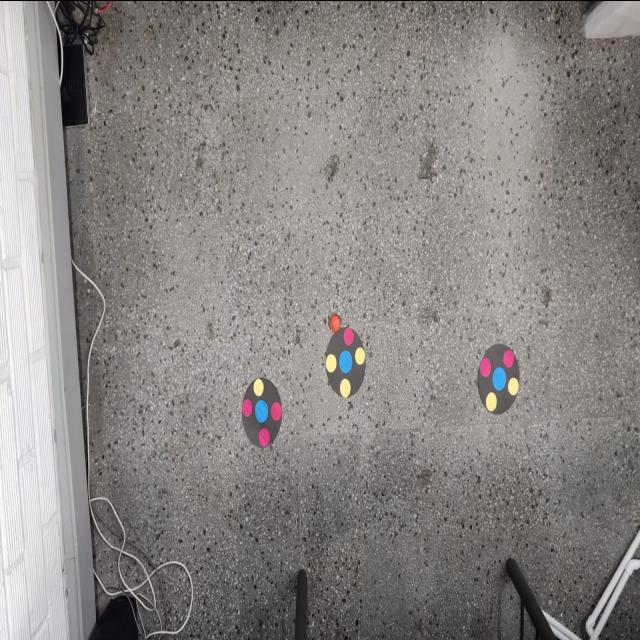0: (242, 376, 282, 447)
1: (478, 342, 520, 414)
2: (324, 325, 366, 397)
Ball: (330, 314, 340, 332)
